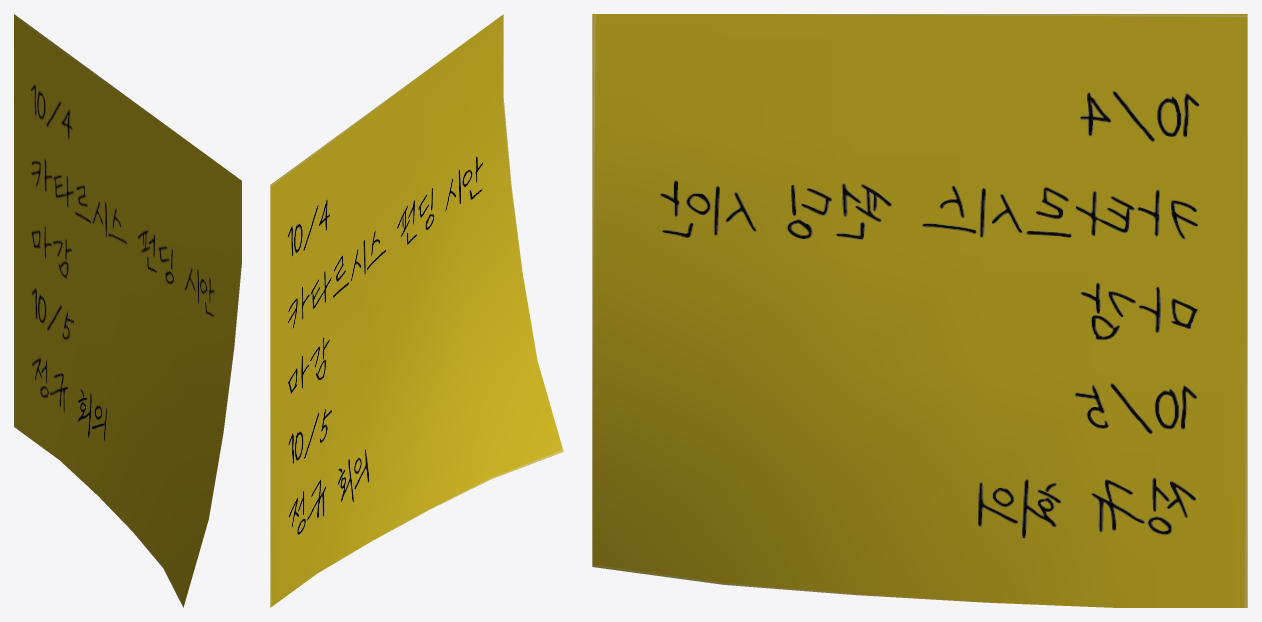
File: memo2.fbx
3 views of the same model, side by side, from view 1: azimuth 30°, elevation 25°; view 2: azimuth 150°, elevation 25°; view 3: azimuth 270°, elevation 25° (orthographic). The views are drawn at different scales.
Parts seen in each view (by area): view 1: memo7; view 2: memo7; view 3: memo7.
Boxes of the visible parts, box(x1,y1,x2,y2) form: memo7: box(14, 14, 241, 607); memo7: box(270, 14, 563, 607); memo7: box(592, 14, 1247, 607).
Size of the model in its own units: 0.000723 by 0.00488 by 0.00488.
Materials: 1 (1 with a texture image).
